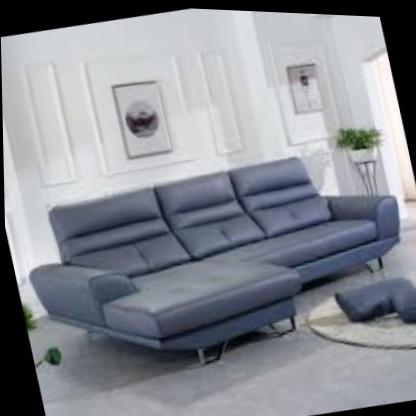Sofa: (2, 117, 416, 399)
